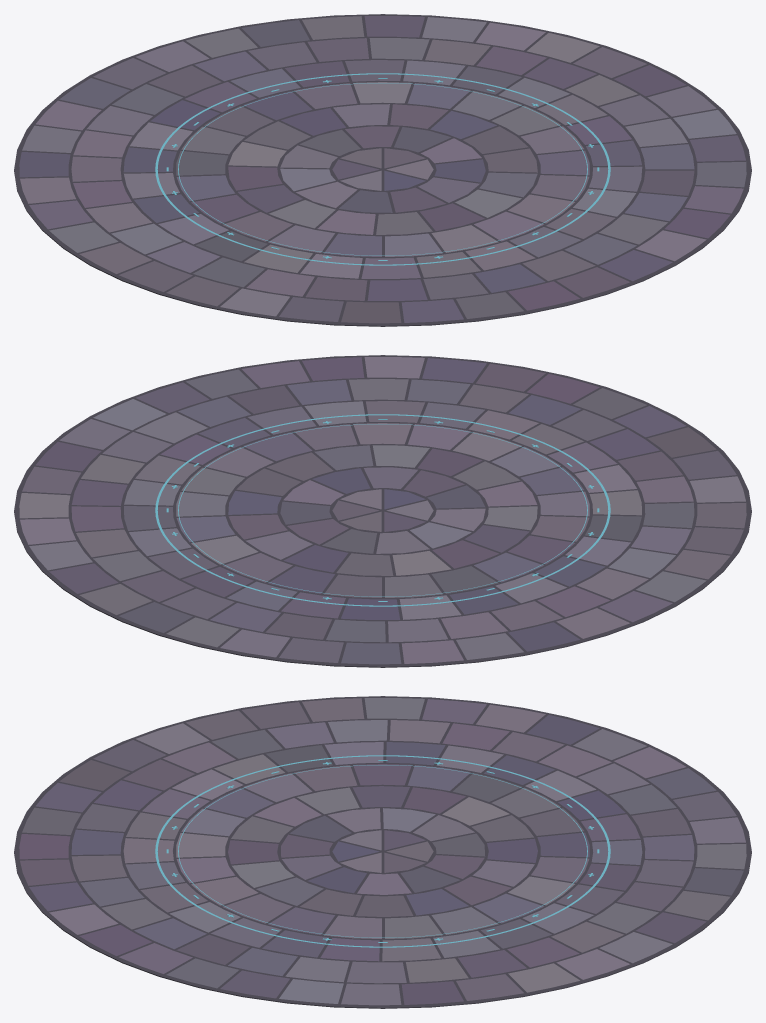
Rendered from ArenaFloor.fbx.
3 renders of one model, top to bottom at view 1: azimuth 30°, elevation 25°; view 2: azimuth 150°, elevation 25°; view 3: azimuth 270°, elevation 25°, orthographic.
Visible parts, largest first — view 1: ArenaFloor; view 2: ArenaFloor; view 3: ArenaFloor.
Boxes of the visible parts, bbox=[...] form: ArenaFloor: bbox=[14, 14, 751, 326]; ArenaFloor: bbox=[14, 355, 751, 667]; ArenaFloor: bbox=[14, 696, 751, 1008].
Size of the model in its own units: 29.5 by 0.071 by 29.5.
